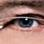eye: (18, 17, 33, 28)
